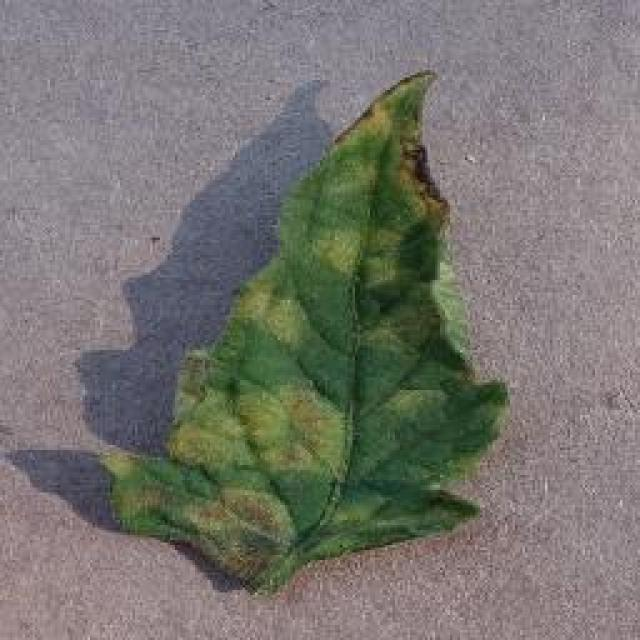Tomato___Leaf_Mold: (102, 70, 508, 595)
